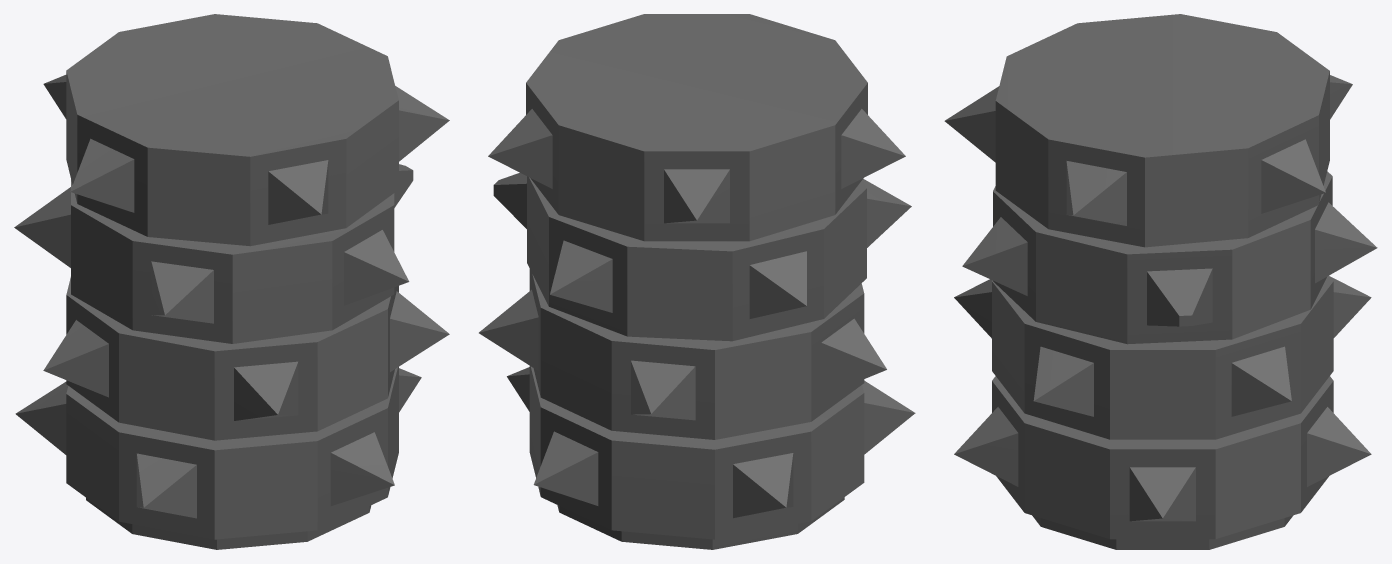
Rendered from Double_Rotating_Spines_Down.fbx.
3 views of the same model, side by side, from view 1: azimuth 30°, elevation 25°; view 2: azimuth 150°, elevation 25°; view 3: azimuth 270°, elevation 25° (orthographic).
Visible parts, largest first — view 1: Double_Rotating_Spines_Top, Double_Rotating_Spines_Down; view 2: Double_Rotating_Spines_Top, Double_Rotating_Spines_Down; view 3: Double_Rotating_Spines_Top, Double_Rotating_Spines_Down.
Boxes of the visible parts, box(x1,y1,x2,y2) form: Double_Rotating_Spines_Top: box(14, 14, 449, 343); Double_Rotating_Spines_Down: box(15, 277, 449, 549); Double_Rotating_Spines_Top: box(488, 14, 911, 341); Double_Rotating_Spines_Down: box(479, 269, 915, 549); Double_Rotating_Spines_Top: box(944, 14, 1377, 344); Double_Rotating_Spines_Down: box(954, 276, 1371, 549).
Size of the model in its own units: 65 by 65.88 by 64.11.
Materials: 1 (1 with a texture image).
